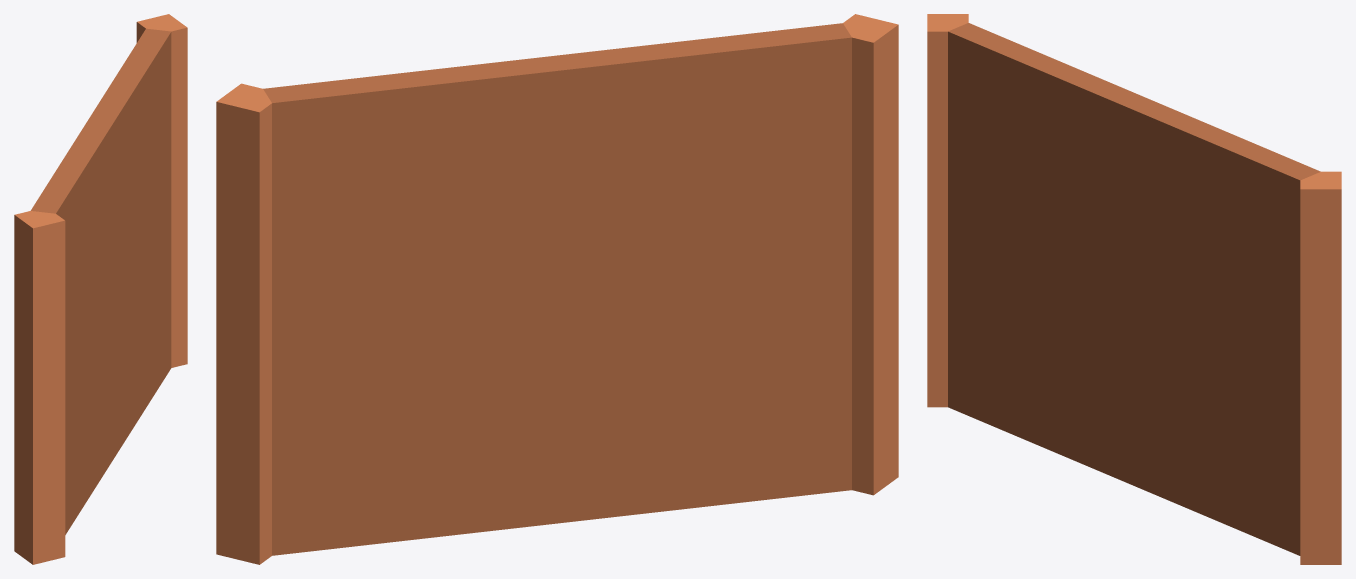
File: wallWoodDiagonal.obj
3 renders of one model, left to right at view 1: azimuth 30°, elevation 25°; view 2: azimuth 150°, elevation 25°; view 3: azimuth 270°, elevation 25°, orthographic. The views are drawn at different scales.
Parts seen in each view (by area): view 1: wallWoodDiagonal; view 2: wallWoodDiagonal; view 3: wallWoodDiagonal.
Part boxes in pixels (x1,y1,x2,y2): wallWoodDiagonal: (14, 14, 187, 564); wallWoodDiagonal: (216, 14, 898, 564); wallWoodDiagonal: (927, 14, 1341, 564).
Size of the model in its own units: 1 by 1 by 1.
